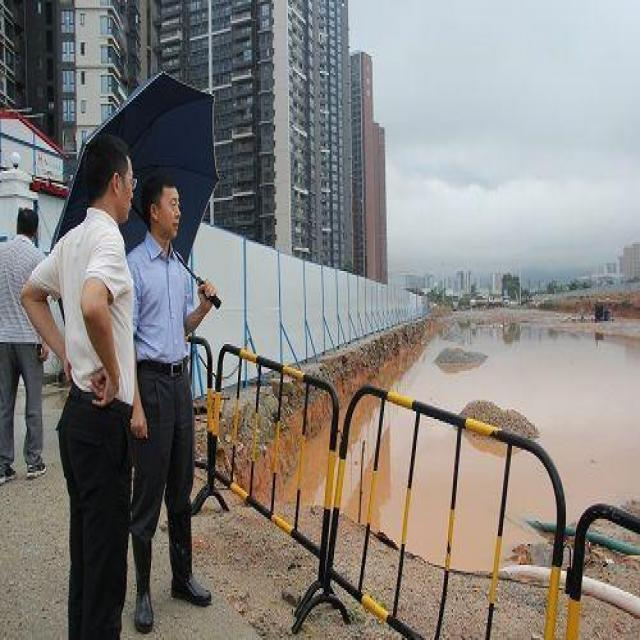no hat: (75, 130, 141, 227), (137, 166, 188, 240), (12, 202, 46, 258)
